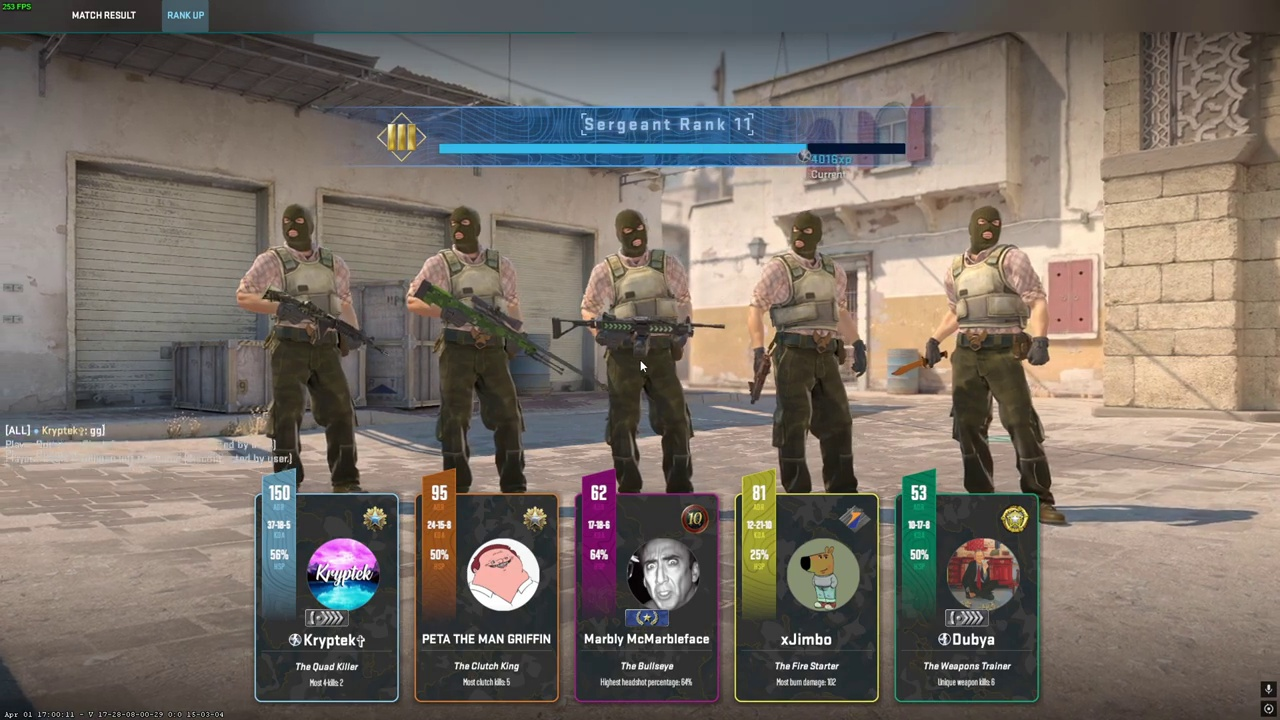Terrorist: (939, 205, 1052, 527), (251, 204, 365, 493), (587, 209, 697, 495), (751, 211, 862, 494), (421, 205, 528, 493)
